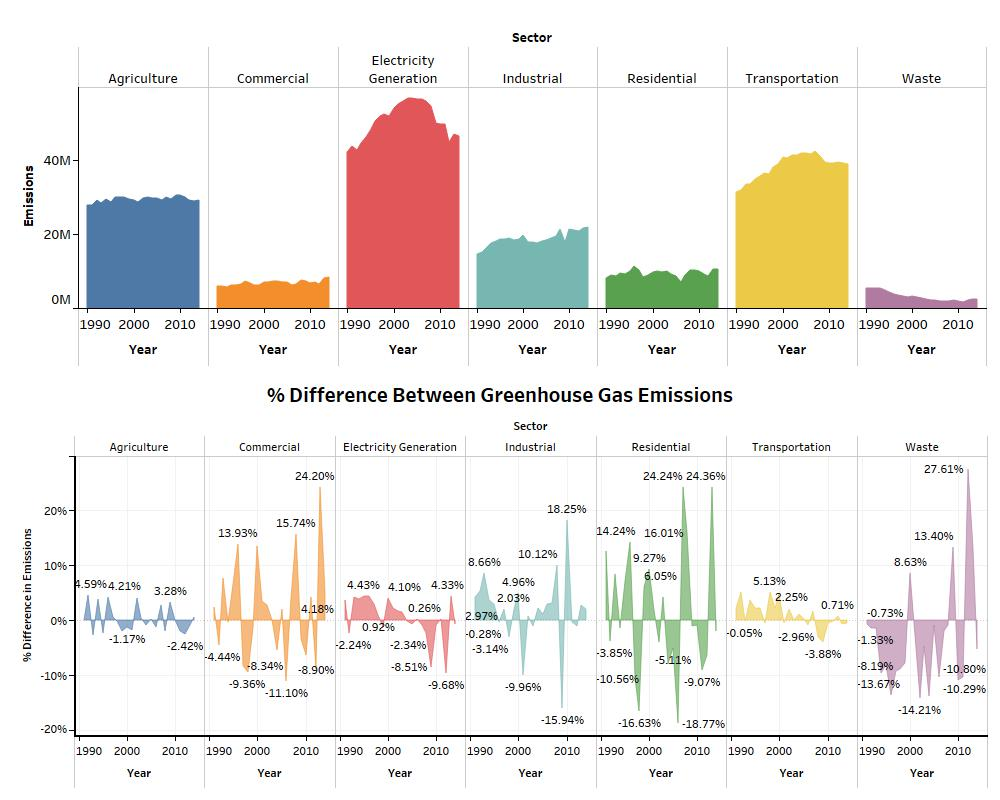

The page's visual inventory and layout, read from the dashboard file:
{"tool":"tableau","page":{"name":"Dashboard 1","canvas":[1000,800],"ordinal":0},"visuals":[{"type":"worksheet","title":"EbYear","mark":"Automatic","box":[8,8,513,784]},{"type":"worksheet","title":"EbSC","mark":"Circle","box":[521,8,471,392]},{"type":"image","param":"C:/Users/Manish Verma/Downloads/WhatsApp Image 2018-02-24 at 9.12.15 AM.jpeg","box":[521,400,471,392]}]}

Visuals, with their boxes in screenshot pixels (x1, y1, x2, y2), scaled from the page's 1000x800 canvas onto the 1000x800 screenshot:
"EbYear" worksheet: rect(8, 8, 521, 792)
"EbSC" worksheet (Circle marks): rect(521, 8, 992, 400)
image: rect(521, 400, 992, 792)
